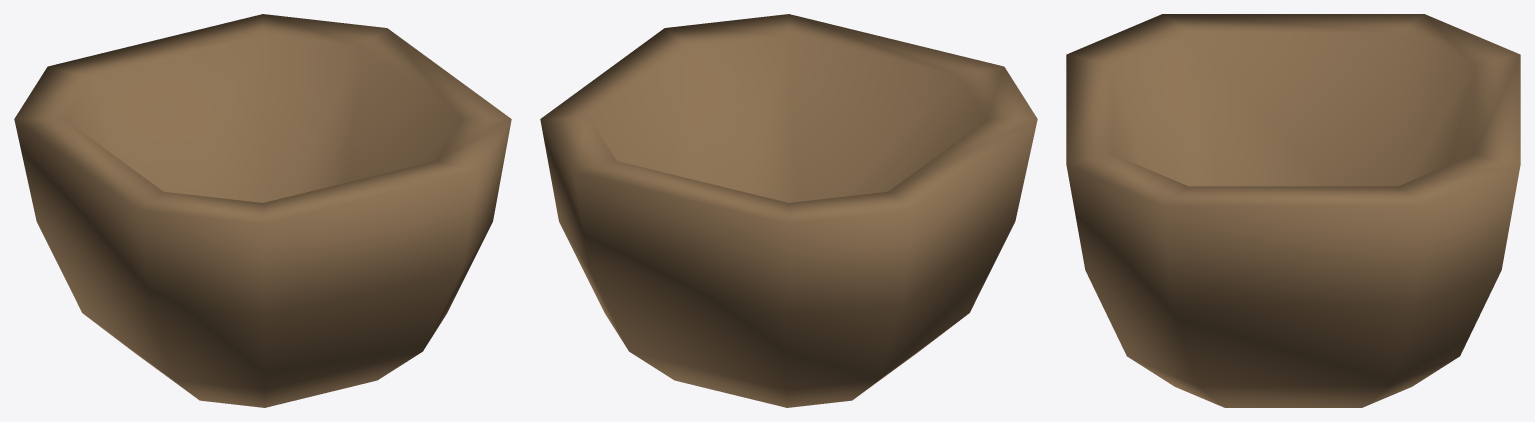
Rendered from rpgpp_ag_bowl_wood_03.fbx.
3 views of the same model, side by side, from view 1: azimuth 30°, elevation 25°; view 2: azimuth 150°, elevation 25°; view 3: azimuth 270°, elevation 25° (orthographic). The views are drawn at different scales.
Visible parts, largest first — view 1: rpgpp_ag_bowl_wood_03; view 2: rpgpp_ag_bowl_wood_03; view 3: rpgpp_ag_bowl_wood_03.
Part boxes in pixels (bbox=[...]): rpgpp_ag_bowl_wood_03: bbox=[14, 14, 511, 407]; rpgpp_ag_bowl_wood_03: bbox=[540, 14, 1037, 407]; rpgpp_ag_bowl_wood_03: bbox=[1066, 14, 1520, 407].
Size of the model in its own units: 0.147 by 0.0882 by 0.147.
